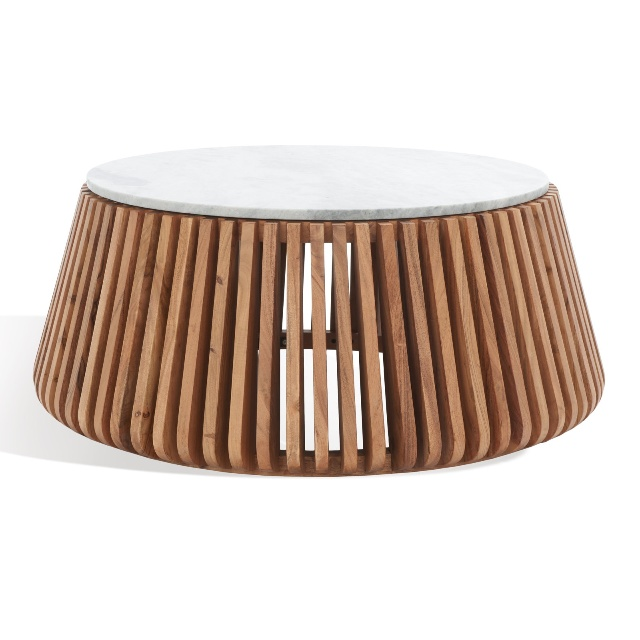obstacle: (34, 146, 603, 475)
